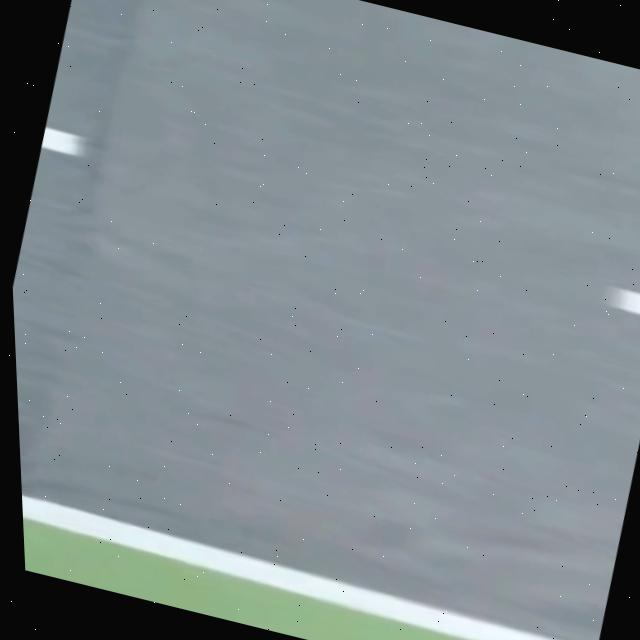center: (40, 126, 84, 156), (606, 287, 640, 314)
right: (22, 494, 560, 640)
